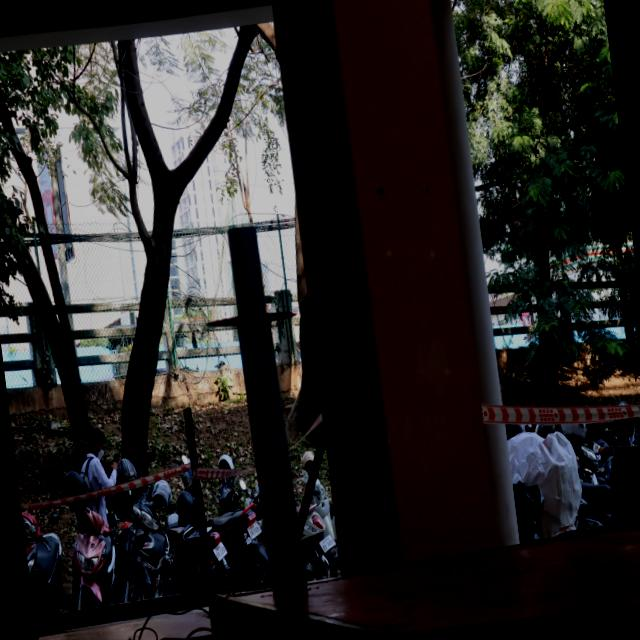pole: (190, 219, 313, 409)
